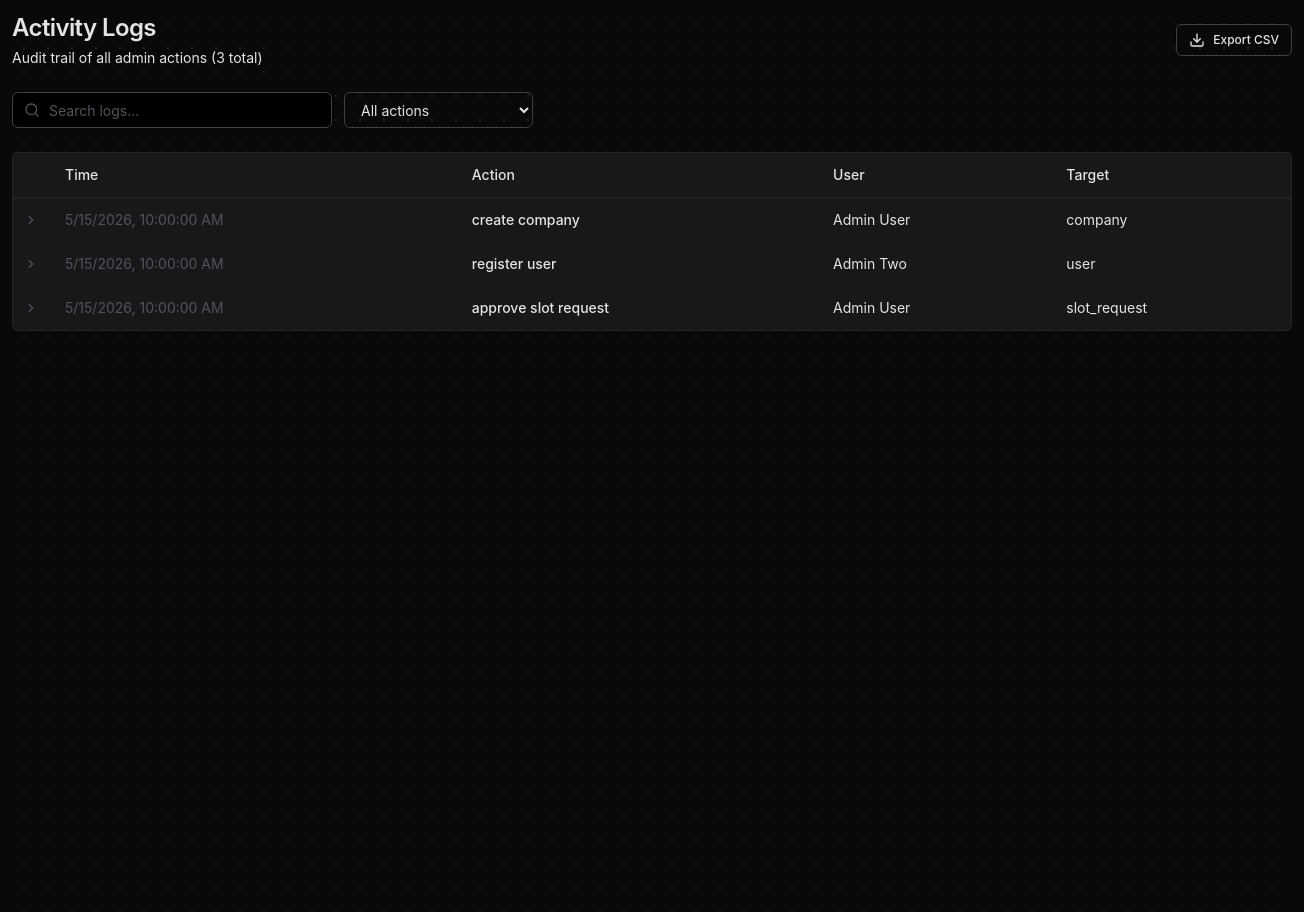
AdminLogs › T-M3-3.D.2 - Detail expansion and CSV export › clicking expand again collapses the detail row
This screenshot has width=1304, height=912.
Expected: the text "create company" is shown, [472,211,580,228]
Click the button named "expand log details" in the row of "create company". click: (31, 220)
box: [21,210,41,230]
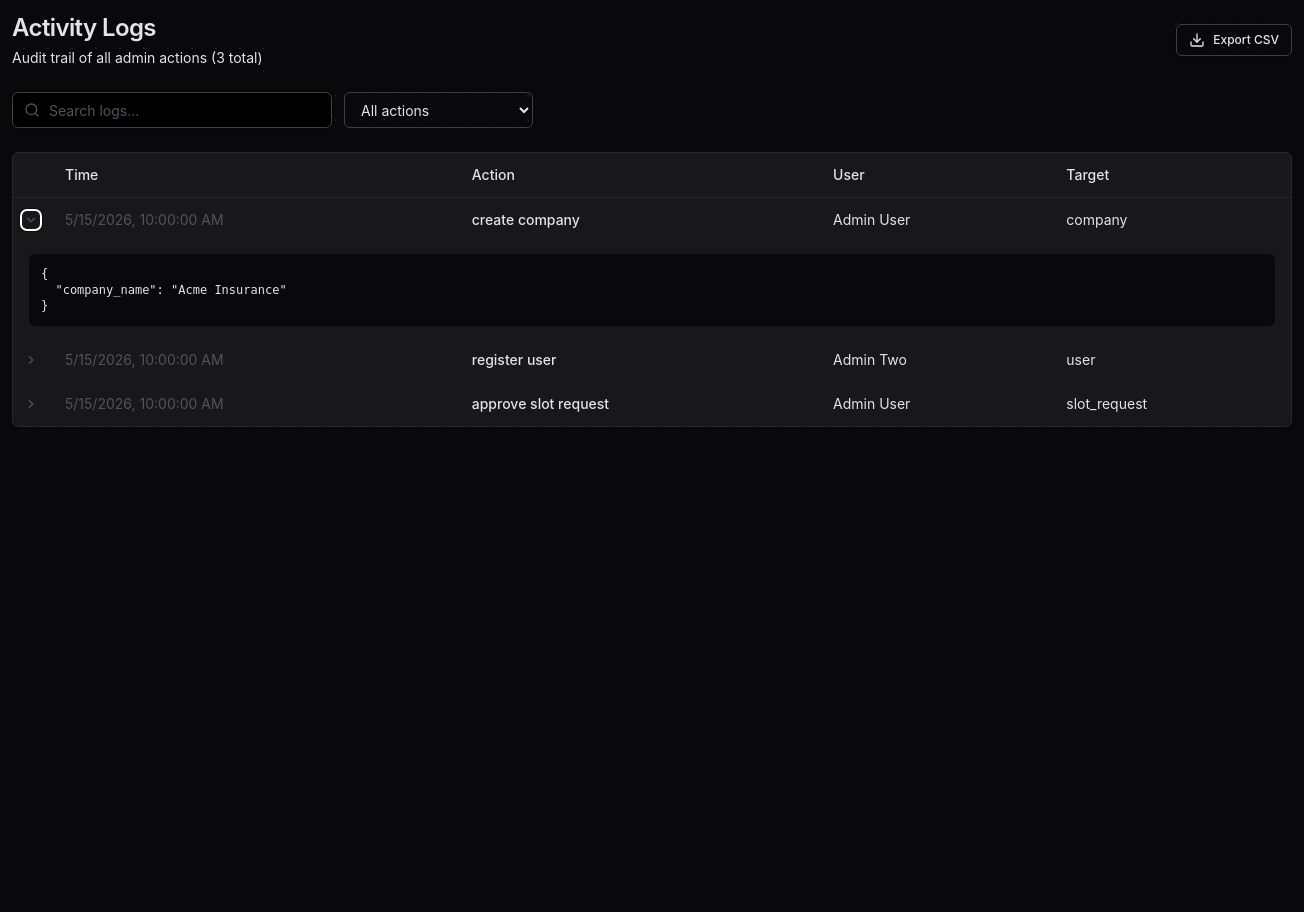
Expected: the text "{ \"company_name\": \"Acme Insurance\" }" is shown, [29,254,1275,326]
Click the button named "collapse log details". click: (31, 220)
box: [21,210,41,230]
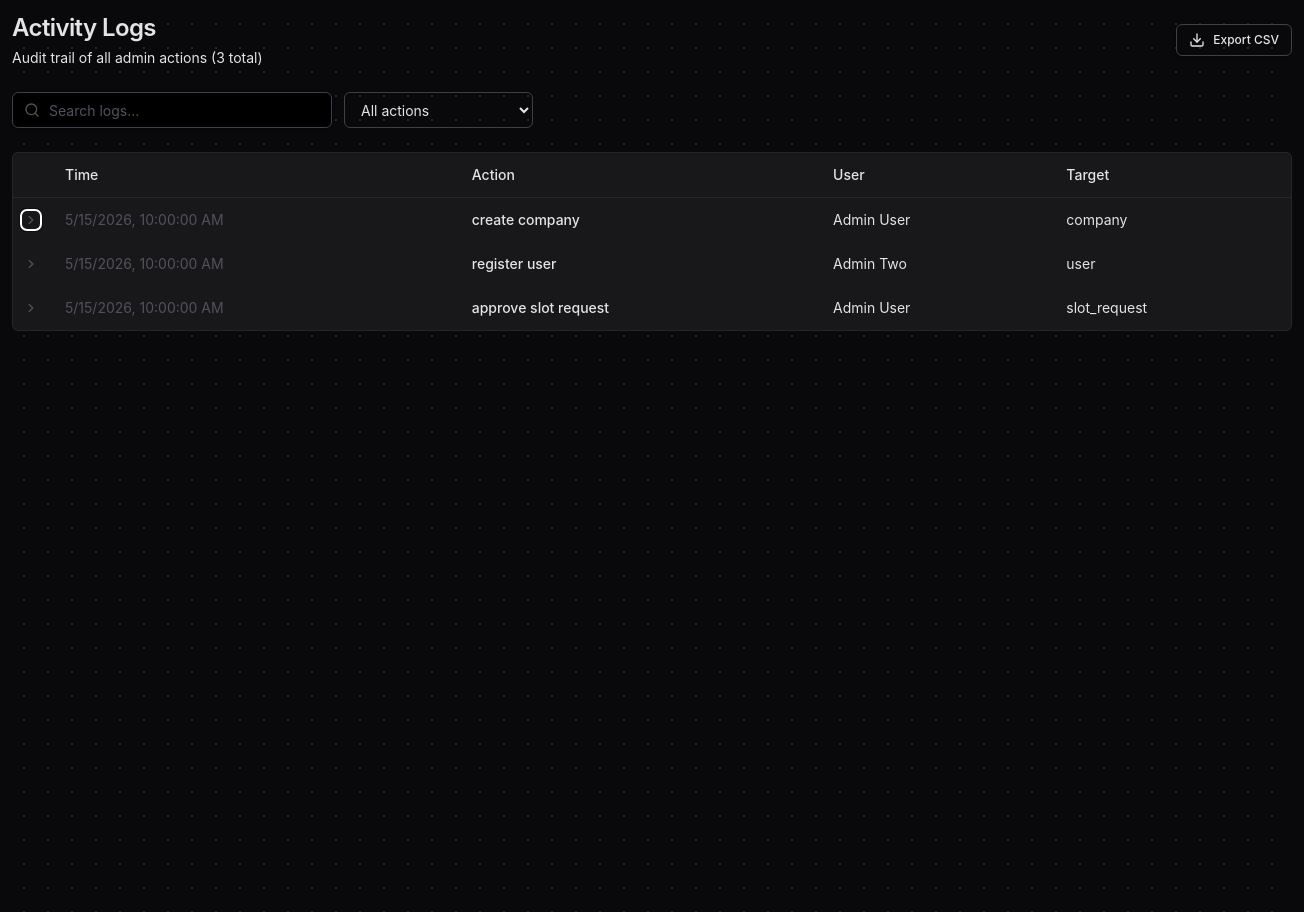
Expected: the text "\"company_name\"" is gone
